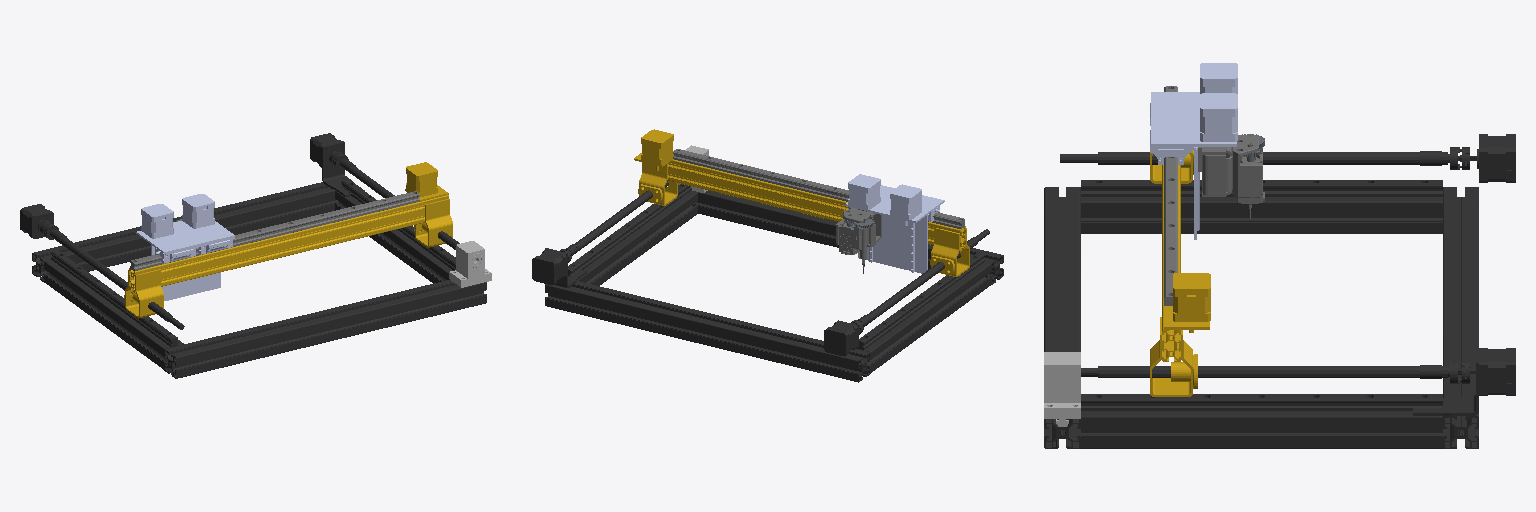
robot.urdf — Assem1:
<?xml version='1.0' encoding='utf-8'?>
<robot name="Assem1">
  <link name="base_link">
    <inertial>
      <origin xyz="0.868352667578254 1.05898903789341 1.16352342034059" rpy="0 0 0" />
      <mass value="1.53299233696365" />
      <inertia ixx="0.00888871633932489" ixy="6.54616058110264E-08" ixz="-2.27783451098028E-07" iyy="0.0307978448545108" iyz="5.14701843456448E-06" izz="0.0223376908161357" />
    </inertial>
    <visual>
      <origin xyz="0 0 0" rpy="0 0 0" />
      <geometry>
        <mesh filename="./meshes/base_link.STL" />
      </geometry>
      <material name="">
        <color rgba="0.250980392156863 0.250980392156863 0.250980392156863 1" />
      </material>
    </visual>
    <collision>
      <origin xyz="0 0 0" rpy="0 0 0" />
      <geometry>
        <mesh filename="../meshes/base_link.STL" />
      </geometry>
    </collision>
  </link>
  <link name="left_pillow_block">
    <inertial>
      <origin xyz="0.585766321003453 0.0353607310615776 1.4098191438993" rpy="0 0 0" />
      <mass value="0.0882641208491581" />
      <inertia ixx="3.07620378481912E-05" ixy="7.7613351287486E-10" ixz="-8.14444263038735E-10" iyy="2.4111576800649E-05" iyz="-6.24121764317882E-10" izz="3.49514329945943E-05" />
    </inertial>
    <visual>
      <origin xyz="0 0 0" rpy="0 0 0" />
      <geometry>
        <mesh filename="./meshes/left pillow block.STL" />
      </geometry>
      <material name="">
        <color rgba="0.752941176470588 0.752941176470588 0.752941176470588 1" />
      </material>
    </visual>
    <collision>
      <origin xyz="0 0 0" rpy="0 0 0" />
      <geometry>
        <mesh filename="../meshes/left pillow block.STL" />
      </geometry>
    </collision>
  </link>
  <joint name="pillow_block_L_static" type="prismatic">
    <origin xyz="0.558 0 1.0585" rpy="1.5708 0 0" />
    <parent link="base_link" />
    <child link="left_pillow_block" />
    <axis xyz="0 1 0" />
    <limit lower="0" upper="0" effort="0" velocity="0" />
  </joint>
  <link name="leadscrew_l">
    <inertial>
      <origin xyz="0.258602501787106 4.49776794314571E-05 -2.00616652201724E-05" rpy="0 0 0" />
      <mass value="0.0753386843650939" />
      <inertia ixx="2.32565577119641E-06" ixy="2.77913717590637E-10" ixz="7.61000029163675E-11" iyy="0.00092384424933684" iyz="-4.27005708569794E-10" izz="0.000923847393958268" />
    </inertial>
    <visual>
      <origin xyz="0 0 0" rpy="1.5708 1.5708 0" />
      <geometry>
        <mesh filename="./meshes/leadscrew l.STL" />
      </geometry>
      <material name="">
        <color rgba="0.250980392156863 0.250980392156863 0.250980392156863 1" />
      </material>
    </visual>
    <collision>
      <origin xyz="0 0 0" rpy="0 0 0" />
      <geometry>
        <mesh filename="../meshes/leadscrew l.STL" />
      </geometry>
    </collision>
  </link>
  <joint name="leadscrew_l_rotation" type="continuous">
    <origin xyz="0.58577 0.0555 1.4128" rpy="0 0 0" />
    <parent link="left_pillow_block" />
    <child link="leadscrew_l" />
    <axis xyz="0 0 1" />
    <limit lower="0" upper="0" effort="0" velocity="0" />
  </joint>
  <link name="x_movement">
    <inertial>
      <origin xyz="0.0302815689989748 -0.215938169534462 -0.0441396511811505" rpy="0 0 0" />
      <mass value="0.333890297379534" />
      <inertia ixx="0.00554458251534697" ixy="-1.97577385195446E-17" ixz="5.84186990418455E-07" iyy="0.000110435162786978" iyz="-3.6243647287197E-08" izz="0.00550678537470146" />
    </inertial>
    <visual>
      <origin xyz="-.055 0.001 -.1" rpy="1.5708 1.5708 0" />
      <geometry>
        <mesh filename="./meshes/x movement.STL" />
      </geometry>
      <material name="">
        <color rgba="0.827450980392157 0.666666666666667 0.129411764705882 1" />
      </material>
    </visual>
    <collision>
      <origin xyz="0 0 0" rpy="0 0 0" />
      <geometry>
        <mesh filename="../meshes/x movement.STL" />
      </geometry>
    </collision>
  </link>
  <joint name="x_axis_linear" type="prismatic">
    <origin xyz="0.63987 0.0545000037 1.4138" rpy="-3.61744123e-22 -0 0" />
    <parent link="left_pillow_block" />
    <child link="x_movement" />
    <axis xyz="0 0 1" />
    <limit lower="-0.246" upper="0.062" effort="0" velocity="0" />
  </joint>
  <link name="y_rail">
    <inertial>
      <origin xyz="-5.58331159083991E-13 -0.000110264807158034 -2.24109619750834E-11" rpy="0 0 0" />
      <mass value="0.103661148486152" />
      <inertia ixx="3.66094436380346E-06" ixy="7.97023540785512E-14" ixz="6.93196606450724E-19" iyy="0.0025977601380798" iyz="-1.63387300253687E-21" izz="0.00259809511002258" />
    </inertial>
    <visual>
      <origin xyz="0.377 0.054 0.386" rpy="1.5708 1.5708 0" />
      <geometry>
        <mesh filename="./meshes/y rail .STL" />
      </geometry>
      <material name="">
        <color rgba="0.501960784313725 0.501960784313725 0.501960784313725 1" />
      </material>
    </visual>
    <collision>
      <origin xyz="0 0 0" rpy="0 0 0" />
      <geometry>
        <mesh filename="../meshes/y rail .STL" />
      </geometry>
    </collision>
  </link>
  <joint name="y_rail_static" type="fixed">
    <origin xyz="0.024233 -0.3065 -0.069951" rpy="-1.5708 0 1.5708" />
    <parent link="x_movement" />
    <child link="y_rail" />
    <axis xyz="0 0 1" />
  </joint>
  <link name="toolhead_carriage">
    <inertial>
      <origin xyz="-0.00277442320334542 0.0309942290903233 -0.00132923474893687" rpy="0 0 0" />
      <mass value="0.314967107084397" />
      <inertia ixx="0.000189090684542243" ixy="-3.55569341337465E-10" ixz="3.92296740078724E-08" iyy="0.0003134313279807" iyz="2.02279446182324E-05" izz="0.000269671639344761" />
    </inertial>
    <visual>
      <origin xyz="0.3965 -0.54 0.034" rpy="1.5708 0 1.5708" />
      <geometry>
        <mesh filename="./meshes/toolhead carriage.STL" />
      </geometry>
      <material name="">
        <color rgba="0.792156862745098 0.819607843137255 0.933333333333333 1" />
      </material>
    </visual>
    <collision>
      <origin xyz="0 0 0" rpy="0 0 0" />
      <geometry>
        <mesh filename="../meshes/toolhead carriage.STL" />
      </geometry>
    </collision>
  </link>
  <joint name="toolhead_linear" type="prismatic">
    <origin xyz="0 0.019675 0" rpy="-1.5708 0 0" />
    <parent link="y_rail" />
    <child link="toolhead_carriage" />
    <axis xyz="0 1 0" />
    <limit lower="-0.006" upper="0.365" effort="0" velocity="0" />
  </joint>
  <link name="z1">
    <inertial>
      <origin xyz="-0.0188642755380679 0.0399733046767312 -0.00187283223848034" rpy="0 0 0" />
      <mass value="0.0917402851919872" />
      <inertia ixx="2.91099922946181E-05" ixy="1.40270002725066E-07" ixz="2.84068037462018E-07" iyy="4.11402774159938E-05" iyz="2.85022132675072E-07" izz="3.23473040337209E-05" />
    </inertial>
    <visual>
      <origin xyz="0.12125 0.5332 0.34" rpy="0 -1.5708 -1.5708" />
      <geometry>
        <mesh filename="./meshes/z1.STL" />
      </geometry>
      <material name="">
        <color rgba="0.498039215686275 0.498039215686275 0.498039215686275 1" />
      </material>
    </visual>
    <collision>
      <origin xyz="0 0 0" rpy="0 0 0" />
      <geometry>
        <mesh filename="../meshes/z1.STL" />
      </geometry>
    </collision>
  </link>
  <joint name="z1_linear" type="prismatic">
    <origin xyz="0.0372 0.030619 -0.056696" rpy="3.1416 -1.5708 0" />
    <parent link="toolhead_carriage" />
    <child link="z1" />
    <axis xyz="0 0 1" />
    <limit lower="0" upper="0" effort="0" velocity="0" />
  </joint>
  <link name="e1_stepper_gear">
    <inertial>
      <origin xyz="-0.00474997679076683 -0.0157918923827352 0.0311504097461397" rpy="0 0 0" />
      <mass value="0.00150753052296752" />
      <inertia ixx="4.34357654458276E-08" ixy="2.3245786908752E-14" ixz="-1.25254205918787E-13" iyy="4.34107056934144E-08" iyz="-1.58858450471333E-11" izz="6.31167558845983E-08" />
    </inertial>
    <visual>
      <origin xyz="-.0156 .005 0.0" rpy="0 0 1.57080" />
      <geometry>
        <mesh filename="./meshes/e1 stepper gear.STL" />
      </geometry>
      <material name="">
        <color rgba="0.447058823529412 0.474509803921569 0.501960784313725 1" />
      </material>
    </visual>
    <collision>
      <origin xyz="0 0 0" rpy="0 0 0" />
      <geometry>
        <mesh filename="../meshes/e1 stepper gear.STL" />
      </geometry>
    </collision>
  </link>
  <joint name="e1_stepper_rotation" type="continuous">
    <origin xyz="0.178864089 0.525951621 0.312015814" rpy="0 0 0" />
    <parent link="z1" />
    <child link="e1_stepper_gear" />
    <axis xyz="0 0 1" />
  </joint>
  <link name="e1_rod_gear">
    <inertial>
      <origin xyz="7.37762317741808E-05 2.38079148493497E-05 0.00743279420932375" rpy="0 0 0" />
      <mass value="0.00347294505935546" />
      <inertia ixx="2.3415460931349E-07" ixy="-3.54241595581534E-14" ixz="8.778836882488E-15" iyy="2.34154632025185E-07" iyz="-1.5961069969138E-13" izz="4.56580838521803E-07" />
    </inertial>
    <visual>
      <origin xyz="0 0 0" rpy="0 0 0" />
      <geometry>
        <mesh filename="./meshes/e1 rod gear.STL" />
      </geometry>
      <material name="">
        <color rgba="0.447058823529412 0.474509803921569 0.501960784313725 1" />
      </material>
    </visual>
    <collision>
      <origin xyz="0 0 0" rpy="0 0 0" />
      <geometry>
        <mesh filename="../meshes/e1 rod gear.STL" />
      </geometry>
    </collision>
  </link>
  <joint name="e1_screw_gear_rotation" type="continuous">
    <origin xyz="0.177880899 0.551760823 0.351728531" rpy="-3.14158531 7.29954761e-23 -2.4141" />
    <parent link="z1" />
    <child link="e1_rod_gear" />
    <axis xyz="0 0 1" />
    <mimic joint="e1_stepper_rotation" multiplier="0.59375" />
  </joint>
  <link name="threaded_rod_extrusion">
    <inertial>
      <origin xyz="4.54295332685817E-07 -3.07253542608521E-08 -0.0139937548541293" rpy="0 0 0" />
      <mass value="0.000397265570021718" />
      <inertia ixx="1.6157890228269E-07" ixy="-1.73751735989028E-14" ixz="1.06215025416578E-11" iyy="1.61579269868816E-07" iyz="-4.96843524921786E-13" izz="3.68625012236905E-10" />
    </inertial>
    <visual>
      <origin xyz="0 0 0" rpy="0 0 0" />
      <geometry>
        <mesh filename="./meshes/threaded rod extrusion.STL" />
      </geometry>
      <material name="">
        <color rgba="0.674509803921569 0.709803921568627 0.737254901960784 1" />
      </material>
    </visual>
    <collision>
      <origin xyz="0 0 0" rpy="0 0 0" />
      <geometry>
        <mesh filename="../meshes/threaded rod extrusion.STL" />
      </geometry>
    </collision>
  </link>
  <joint name="extrusion_screw_gear" type="prismatic">
    <origin xyz="-5.98171182e-06 -7.12896436e-06 -6.00059158e-06" rpy="0 0 1.9351" />
    <parent link="e1_rod_gear" />
    <child link="threaded_rod_extrusion" />
    <axis xyz="0 0 1" />
    <limit lower="0" upper="0" effort="0" velocity="0" />
  </joint>
  <link name="right_pillow_block">
    <inertial>
      <origin xyz="0.585766321035467 0.0353607310615198 1.40981914389929" rpy="0 0 0" />
      <mass value="0.088264120849158" />
      <inertia ixx="3.07620378481912E-05" ixy="7.7613351283864E-10" ixz="-8.14444263038945E-10" iyy="2.4111576800649E-05" iyz="-6.24121764304703E-10" izz="3.49514329945943E-05" />
    </inertial>
    <visual>
      <origin xyz="0 0 0" rpy="0 0 0" />
      <geometry>
        <mesh filename="./meshes/glb/right_pillow_block.glb" />
      </geometry>
      <material name="">
        <color rgba="0.752941176470588 0.752941176470588 0.752941176470588 1" />
      </material>
    </visual>
    <collision>
      <origin xyz="0 0 0" rpy="0 0 0" />
      <geometry>
        <mesh filename="../meshes/right pillow block .STL" />
      </geometry>
    </collision>
  </link>
  <joint name="pillow_block_r_static" type="fixed">
    <origin xyz="0 0 1.0585" rpy="1.5708 0 0" />
    <parent link="base_link" />
    <child link="right_pillow_block" />
    <axis xyz="0 0 1" />
  </joint>
  <link name="leadscrew_r">
    <visual>
      <origin xyz="0 0 0" rpy="1.5708 1.5708 0" />
      <geometry>
        <mesh filename="./meshes/leadscrew l.STL" />
      </geometry>
      <material name="">
        <color rgba="0.251 0.251 0.251 1" />
      </material>
    </visual>
  </link>
  <joint name="leadscrew_r_rotation" type="continuous">
    <origin xyz="0.58577 0.0555 1.4128" rpy="0 0 0" />
    <parent link="right_pillow_block" />
    <child link="leadscrew_r" />
    <axis xyz="0 0 1" />
  </joint>
</robot>

--- Facts derived from the render (not from the file) ---
Views: 3 orthographic renders of the robot side by side, from view 1: azimuth 30°, elevation 25°; view 2: azimuth 150°, elevation 25°; view 3: azimuth 270°, elevation 25°.
Model Assem1 with 12 links and 11 joints (4 continuous, 5 prismatic, 2 fixed), rooted at base_link, posed every joint at zero.
Links seen in each view (by area): view 1: base_link, x_movement, toolhead_carriage, y_rail, left_pillow_block, leadscrew_r, leadscrew_l; view 2: base_link, x_movement, toolhead_carriage, y_rail, z1, leadscrew_r, leadscrew_l; view 3: base_link, toolhead_carriage, x_movement, leadscrew_l, leadscrew_r, z1, left_pillow_block, y_rail.
Link boxes in pixels (x1,y1,x2,y2): base_link: [20, 133, 486, 378]; x_movement: [124, 162, 452, 318]; toolhead_carriage: [136, 194, 234, 300]; y_rail: [130, 191, 419, 270]; left_pillow_block: [449, 241, 491, 287]; leadscrew_r: [40, 221, 184, 329]; leadscrew_l: [329, 151, 459, 249]; base_link: [532, 184, 1003, 382]; x_movement: [634, 129, 969, 276]; toolhead_carriage: [845, 174, 944, 273]; y_rail: [673, 149, 964, 228]; z1: [836, 207, 881, 273]; leadscrew_r: [851, 229, 989, 334]; leadscrew_l: [560, 181, 668, 262]; base_link: [1044, 134, 1515, 448]; toolhead_carriage: [1150, 63, 1237, 239]; x_movement: [1150, 150, 1210, 396]; leadscrew_l: [1081, 361, 1469, 383]; leadscrew_r: [1060, 147, 1469, 169]; z1: [1198, 135, 1264, 218]; left_pillow_block: [1044, 352, 1080, 426]; y_rail: [1164, 86, 1177, 305].
Size in the robot's own frame: 0.6117 by 0.52 by 0.2161 metres.
Meshes: 11 distinct files referenced, 10 mesh visuals loaded (9 binary STL); not drawn: 2 (reference not matched to a file when rendering).
